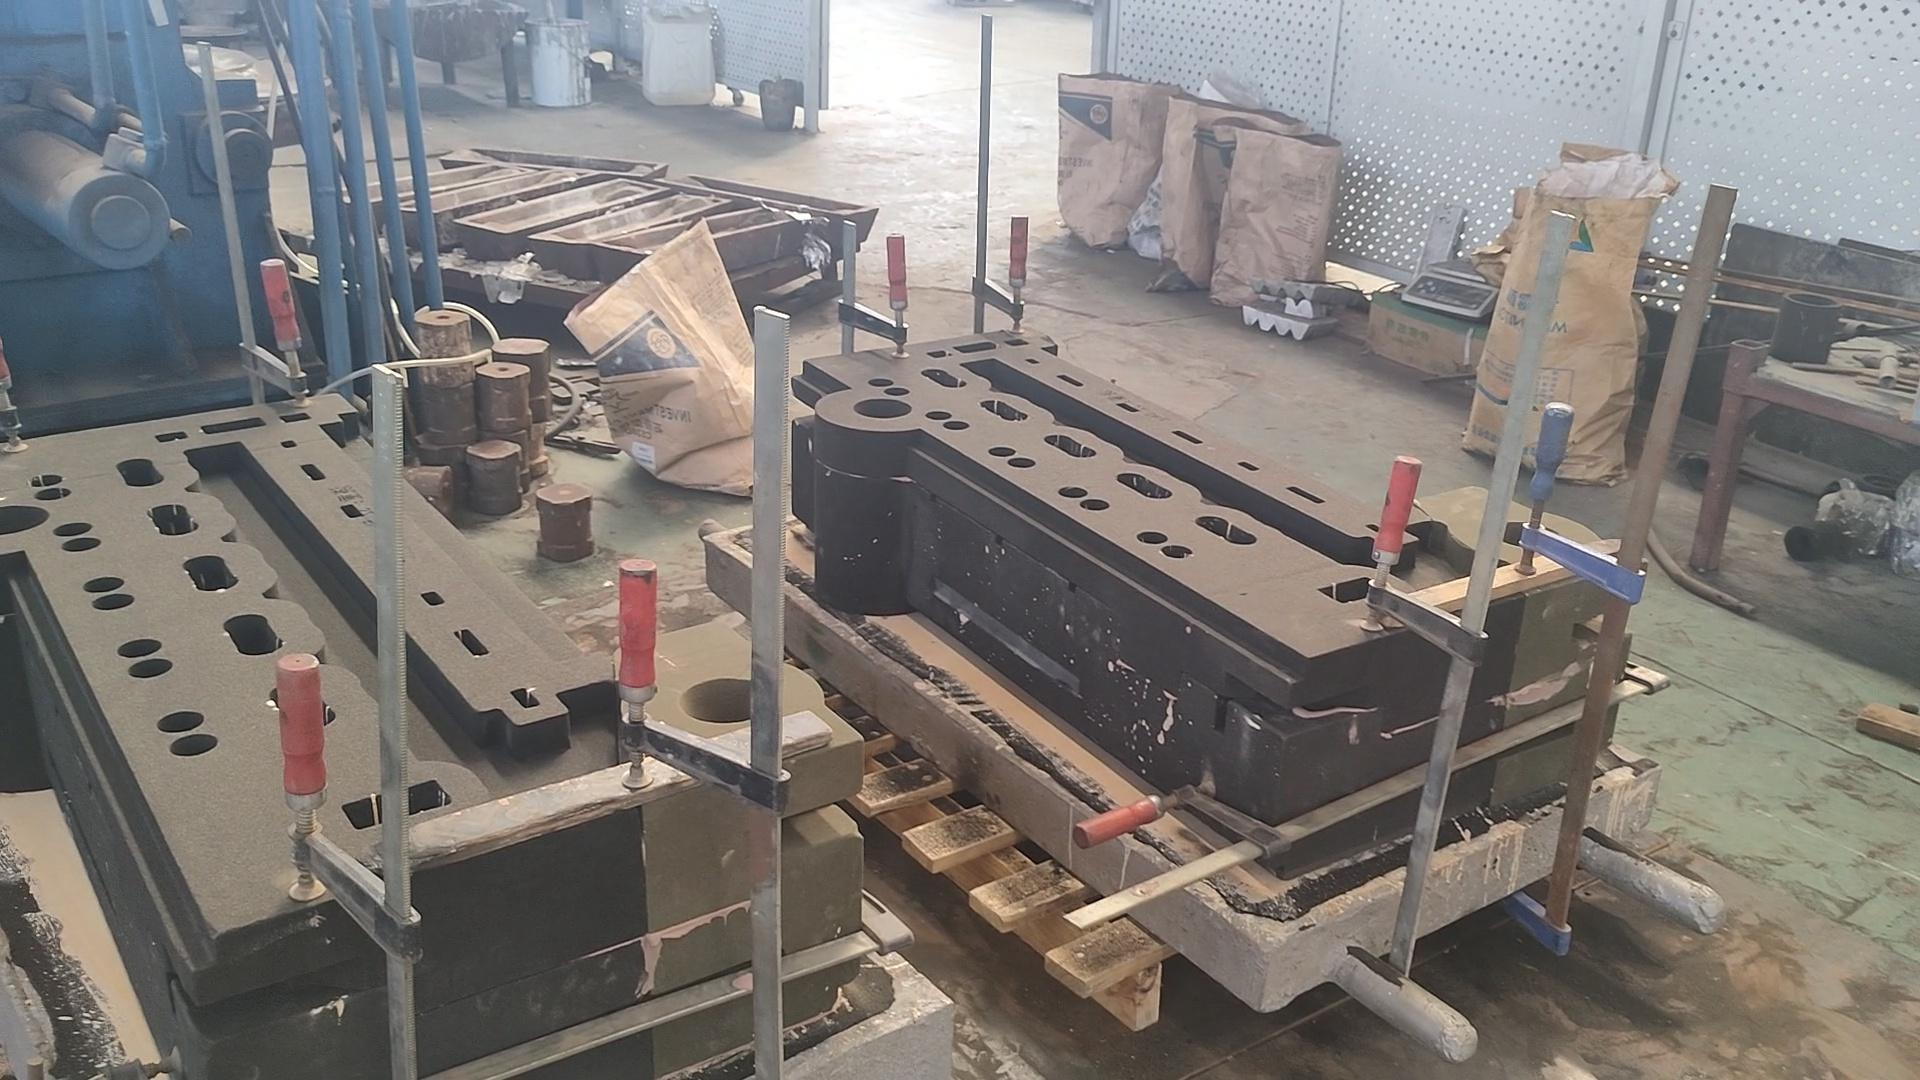pouring hole: (678, 676, 764, 723), (1493, 520, 1563, 546), (1, 504, 51, 535), (851, 397, 913, 418), (1785, 290, 1840, 309)
